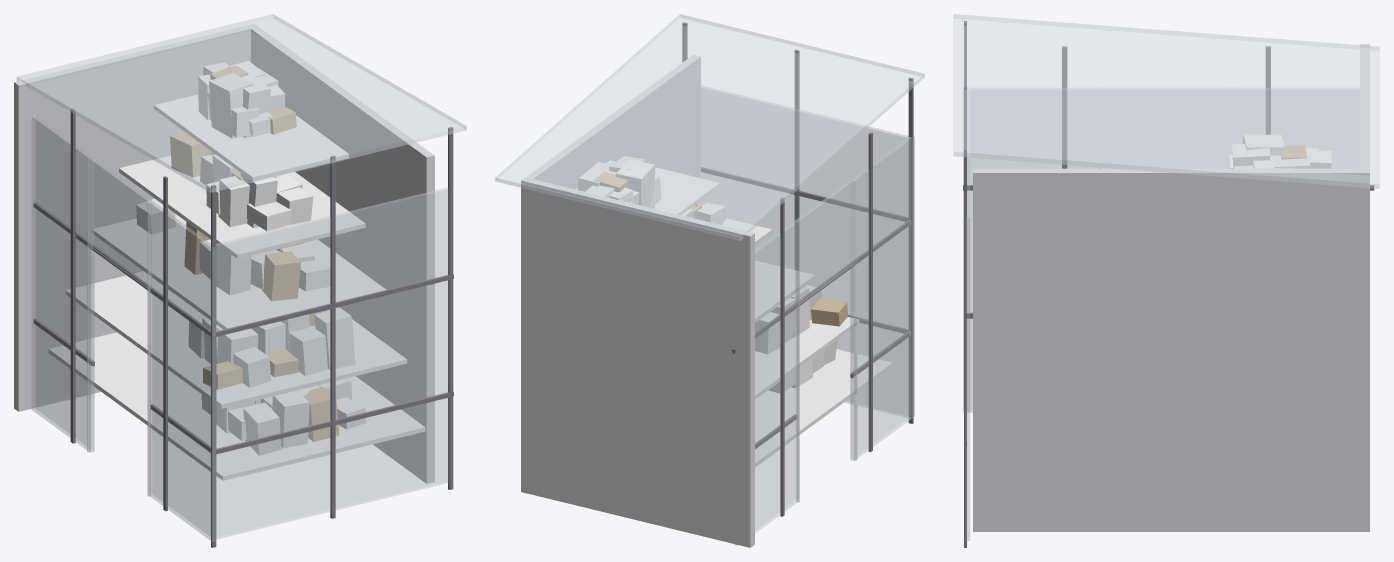
Rendered from core-hub1.glb.
3 views of the same model, side by side, from view 1: azimuth 30°, elevation 25°; view 2: azimuth 150°, elevation 25°; view 3: azimuth 270°, elevation 25° (orthographic). The views are drawn at different scales.
Visible parts, largest first — view 1: Right_Glass_Wall, Glass_Roof, Left_Wall, Back_Wall, Front_Right_Glass, Front_Left_Glass, Shelf_1, Shelf_2, Shelf_3, Shelf_4, Shelf_5, Front_Upper_Glass (+36 smaller); view 2: Left_Wall, Glass_Roof, Right_Glass_Wall, Front_Right_Glass, Front_Left_Glass, Back_Wall, Shelf_1, Front_Upper_Glass, Shelf_2, Shelf_3, Shelf_5, Right_Frame_Vertical.004 (+11 smaller); view 3: Back_Wall, Glass_Roof, Front_Right_Glass, Front_Upper_Glass, Front_Left_Glass, Left_Wall, Right_Glass_Wall, Right_Frame_Vertical.001, Box_S5_13, Box_S5_9, Front_Frame_V2.
Boxes of the visible parts, box(x1,y1,x2,y2) form: Right_Glass_Wall: box(216, 187, 448, 539); Glass_Roof: box(16, 14, 466, 192); Left_Wall: box(14, 23, 258, 411); Back_Wall: box(251, 27, 434, 483); Front_Right_Glass: box(148, 201, 215, 541); Front_Left_Glass: box(31, 115, 94, 452); Shelf_1: box(48, 332, 425, 480); Shelf_2: box(65, 271, 407, 408); Shelf_3: box(92, 213, 386, 329); Shelf_4: box(119, 155, 365, 258); Shelf_5: box(154, 94, 348, 181); Front_Upper_Glass: box(90, 158, 151, 288); Left_Wall: box(521, 177, 754, 547); Glass_Roof: box(495, 14, 924, 240); Right_Glass_Wall: box(701, 86, 910, 417); Front_Right_Glass: box(850, 136, 914, 460); Front_Left_Glass: box(734, 220, 798, 545); Back_Wall: box(526, 54, 700, 189); Shelf_1: box(755, 349, 892, 467); Front_Upper_Glass: box(795, 180, 854, 304); Shelf_2: box(755, 317, 859, 399); Shelf_3: box(755, 260, 815, 322); Shelf_5: box(654, 167, 719, 214); Right_Frame_Vertical.004: box(908, 77, 913, 423); Back_Wall: box(973, 168, 1359, 531); Glass_Roof: box(953, 14, 1379, 188); Front_Right_Glass: box(963, 88, 1102, 412); Front_Upper_Glass: box(1103, 88, 1229, 168); Front_Left_Glass: box(1230, 88, 1359, 168); Left_Wall: box(1360, 44, 1369, 531); Right_Glass_Wall: box(965, 157, 970, 540); Right_Frame_Vertical.001: box(964, 148, 966, 547); Box_S5_13: box(1242, 134, 1284, 155); Box_S5_9: box(1232, 142, 1270, 168); Front_Frame_V2: box(1062, 46, 1067, 168).
Bounding box in the file's own units: 6.57 × 8.69 × 8.38.
